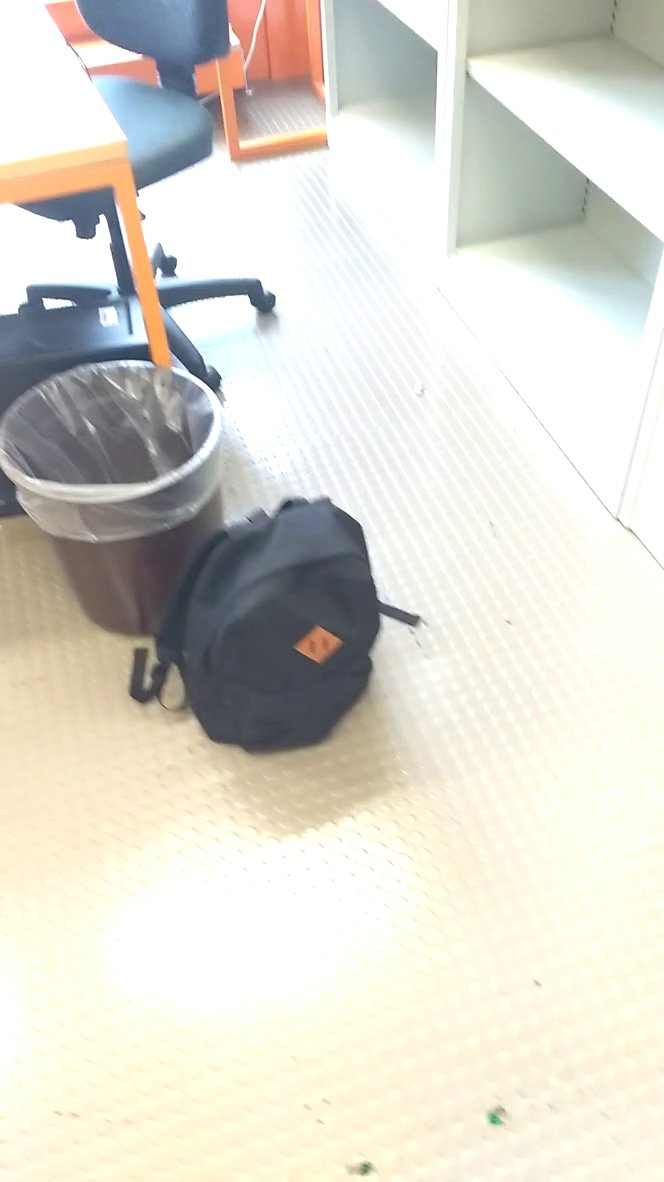bag: (121, 495, 426, 766)
bin: (1, 350, 241, 655)
chair: (3, 2, 276, 364)
